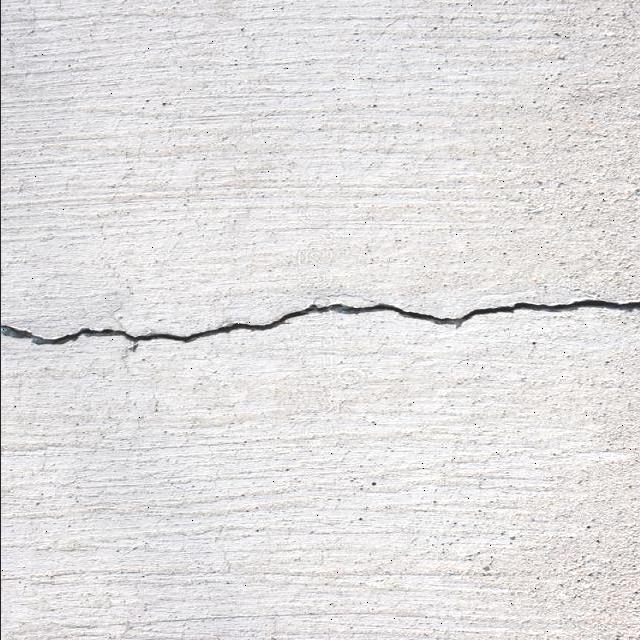crack: (9, 308, 640, 467), (1, 296, 639, 351), (4, 364, 128, 460), (6, 323, 148, 346), (481, 289, 556, 312), (563, 296, 625, 310)
dampens: (124, 327, 233, 344), (212, 320, 268, 336), (2, 324, 38, 341), (326, 302, 372, 315), (306, 303, 323, 314)
